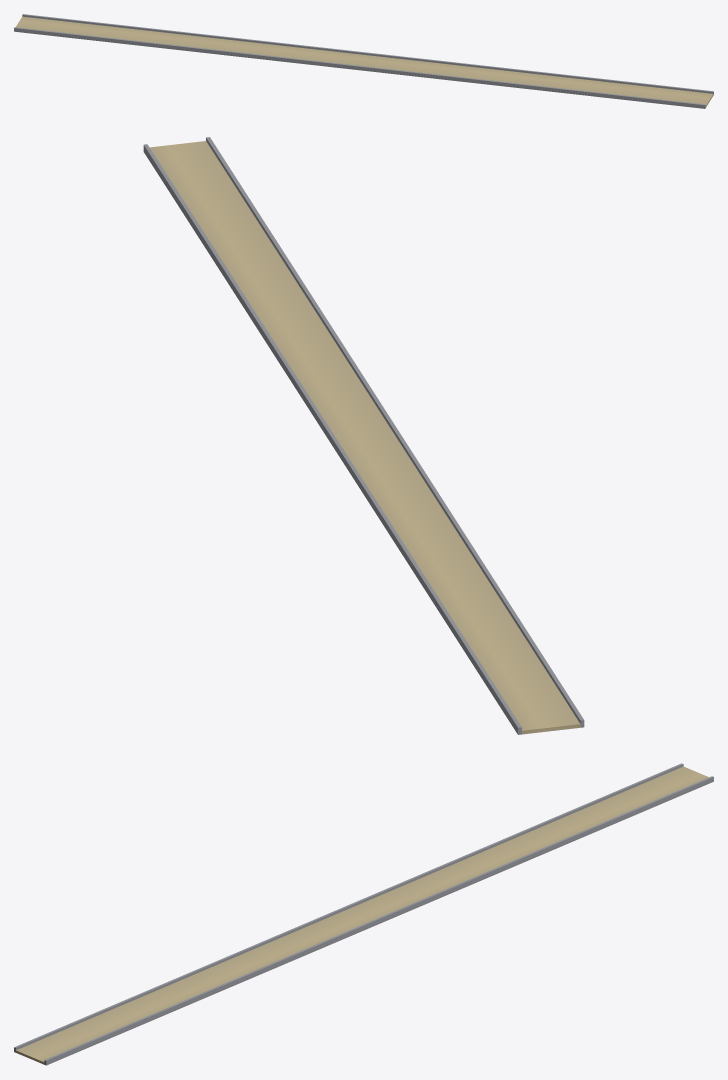
The model's file is sidewalk_19.fbx.
3 views of the same model, one above another, from view 1: azimuth 30°, elevation 25°; view 2: azimuth 150°, elevation 25°; view 3: azimuth 270°, elevation 25° (orthographic). The views are drawn at different scales.
Visible parts, largest first — view 1: sidewalk_18; view 2: sidewalk_18; view 3: sidewalk_18.
Part boxes in pixels (box(x1,y1,x2,y2)): sidewalk_18: box(14, 14, 713, 108); sidewalk_18: box(143, 137, 584, 734); sidewalk_18: box(14, 763, 713, 1065).
Size of the model in its own units: 3.65 by 0.0271 by 3.63.
Materials: 1 (1 with a texture image).
